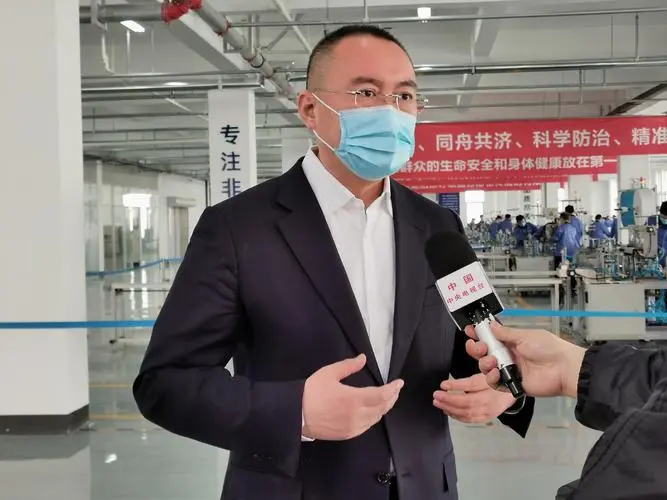withmask: (299, 28, 431, 184)
